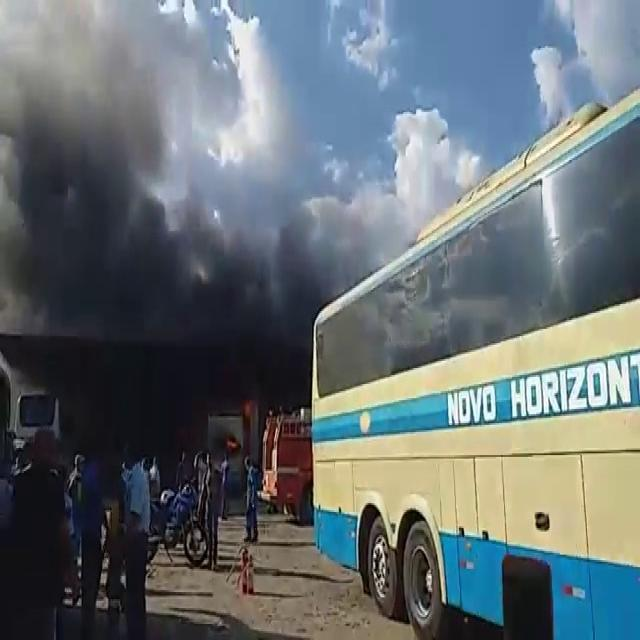Fire: (241, 399, 255, 425), (226, 436, 239, 449)
Smoke: (6, 103, 305, 418)
